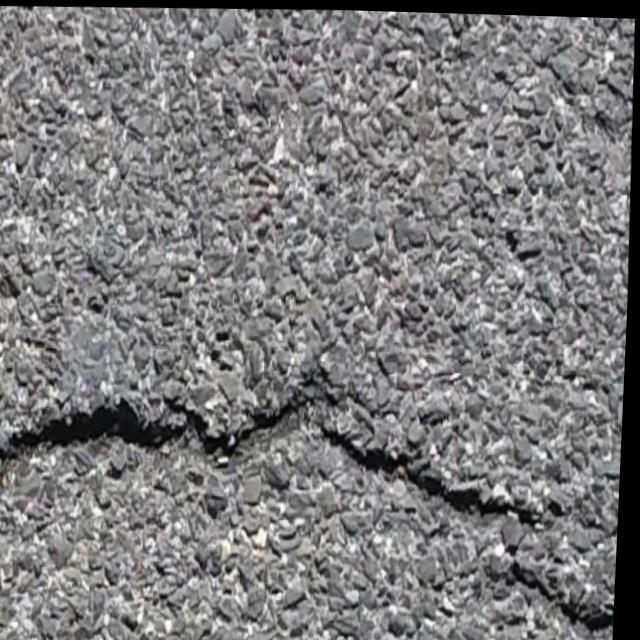Crack: (0, 340, 566, 533)
